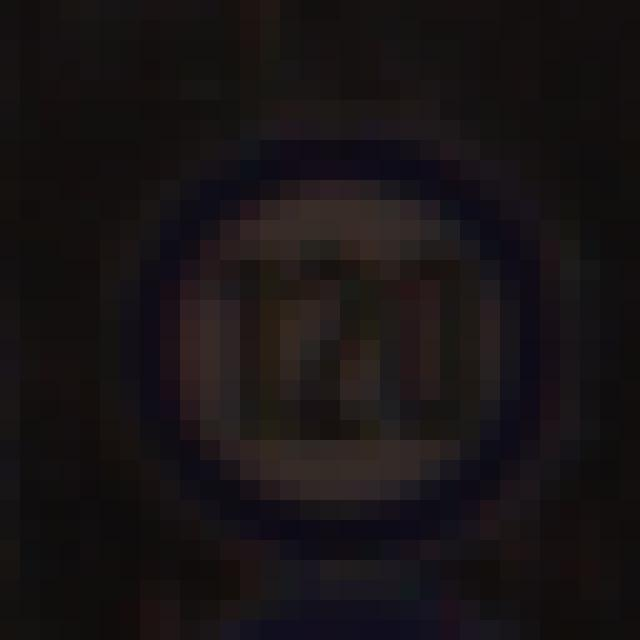SPEED LIMIT 120: (153, 153, 537, 523)
